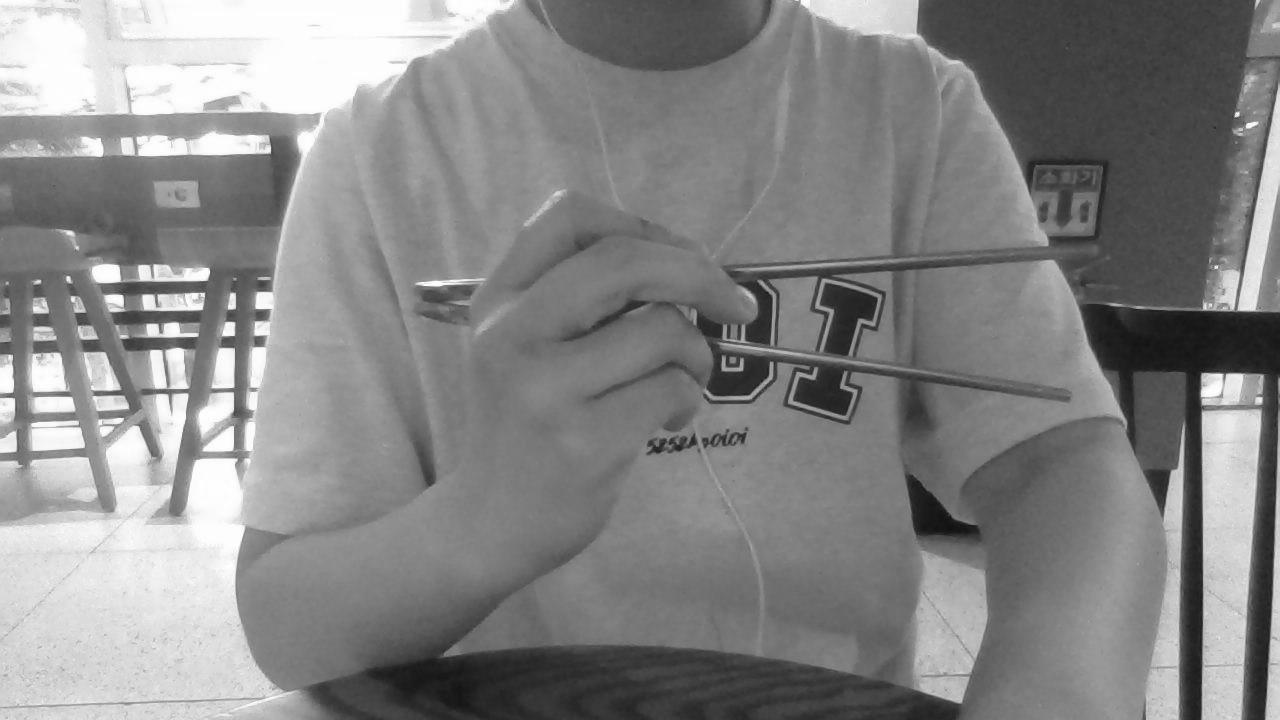chopstick: (409, 299, 1073, 405), (415, 239, 1102, 300)
hand: (456, 185, 760, 562)
